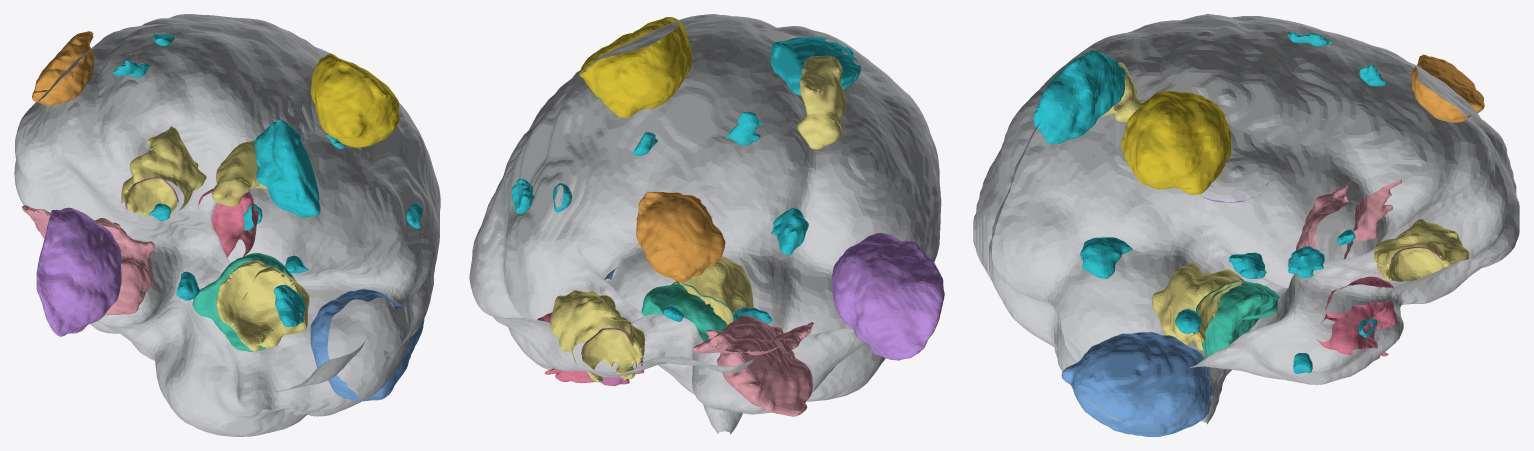
The model's file is case_library_meningioma.glb.
The picture shows the model from 3 angles, left to right: view 1: azimuth 30°, elevation 25°; view 2: azimuth 150°, elevation 25°; view 3: azimuth 270°, elevation 25°; orthographic projection. The views are drawn at different scales.
Visible parts, largest first — view 1: Reference brain surface, Left temporal convexity meningioma — enhancing dural tumour , Posterior falcine meningioma — enhancing dural tumour (7.5 m, Right parasagittal / peri-rolandic meningioma — enhancing du, Petroclival / dorsum sellae skull-base meningioma — vasogeni, Olfactory groove meningioma — vasogenic brain oedema (4.9 mL, Left lateral sphenoid wing meningioma — enhancing dural tumo, Right cerebellopontine angle / petrous meningioma — enhancin, Left frontal convexity meningioma — enhancing dural tumour (, Posterior falcine meningioma — vasogenic brain oedema (2.6 m, Right medial sphenoid wing / clinoidal meningioma — enhancin, Petroclival / dorsum sellae skull-base meningioma — enhancin; view 2: Reference brain surface, Left temporal convexity meningioma — enhancing dural tumour , Left lateral sphenoid wing meningioma — enhancing dural tumo, Right parasagittal / peri-rolandic meningioma — enhancing du, Posterior falcine meningioma — enhancing dural tumour (7.5 m, Left frontal convexity meningioma — enhancing dural tumour (, Olfactory groove meningioma — vasogenic brain oedema (4.9 mL, Posterior falcine meningioma — vasogenic brain oedema (2.6 m, Petroclival / dorsum sellae skull-base meningioma — vasogeni, Petroclival / dorsum sellae skull-base meningioma — enhancin, Right medial sphenoid wing / clinoidal meningioma — enhancin; view 3: Reference brain surface, Right cerebellopontine angle / petrous meningioma — enhancin, Posterior falcine meningioma — enhancing dural tumour (7.5 m, Right parasagittal / peri-rolandic meningioma — enhancing du, Olfactory groove meningioma — vasogenic brain oedema (4.9 mL, Petroclival / dorsum sellae skull-base meningioma — vasogeni, Petroclival / dorsum sellae skull-base meningioma — enhancin, Right medial sphenoid wing / clinoidal meningioma — enhancin, Left lateral sphenoid wing meningioma — enhancing dural tumo, Left frontal convexity meningioma — enhancing dural tumour (, Posterior falcine meningioma — vasogenic brain oedema (2.6 m.
Boxes of the visible parts, x1=… form: Reference brain surface: x1=14, y1=14, x2=440, y2=436; Left temporal convexity meningioma — enhancing dural tumour : x1=36, y1=207, x2=185, y2=336; Posterior falcine meningioma — enhancing dural tumour (7.5 m: x1=113, y1=34, x2=423, y2=326; Right parasagittal / peri-rolandic meningioma — enhancing du: x1=310, y1=53, x2=399, y2=147; Petroclival / dorsum sellae skull-base meningioma — vasogeni: x1=216, y1=260, x2=309, y2=351; Olfactory groove meningioma — vasogenic brain oedema (4.9 mL: x1=121, y1=126, x2=206, y2=216; Left lateral sphenoid wing meningioma — enhancing dural tumo: x1=22, y1=205, x2=154, y2=315; Right cerebellopontine angle / petrous meningioma — enhancin: x1=310, y1=289, x2=424, y2=401; Left frontal convexity meningioma — enhancing dural tumour (: x1=32, y1=31, x2=93, y2=105; Posterior falcine meningioma — vasogenic brain oedema (2.6 m: x1=212, y1=140, x2=281, y2=206; Right medial sphenoid wing / clinoidal meningioma — enhancin: x1=198, y1=188, x2=259, y2=257; Petroclival / dorsum sellae skull-base meningioma — enhancin: x1=192, y1=253, x2=295, y2=351; Reference brain surface: x1=469, y1=14, x2=941, y2=434; Left temporal convexity meningioma — enhancing dural tumour : x1=831, y1=209, x2=944, y2=360; Left lateral sphenoid wing meningioma — enhancing dural tumo: x1=693, y1=315, x2=814, y2=416; Right parasagittal / peri-rolandic meningioma — enhancing du: x1=579, y1=17, x2=692, y2=117; Posterior falcine meningioma — enhancing dural tumour (7.5 m: x1=511, y1=36, x2=861, y2=323; Left frontal convexity meningioma — enhancing dural tumour (: x1=636, y1=192, x2=725, y2=281; Olfactory groove meningioma — vasogenic brain oedema (4.9 mL: x1=550, y1=290, x2=644, y2=382; Posterior falcine meningioma — vasogenic brain oedema (2.6 m: x1=797, y1=55, x2=845, y2=149; Petroclival / dorsum sellae skull-base meningioma — vasogeni: x1=671, y1=256, x2=753, y2=325; Petroclival / dorsum sellae skull-base meningioma — enhancin: x1=641, y1=283, x2=733, y2=341; Right medial sphenoid wing / clinoidal meningioma — enhancin: x1=537, y1=312, x2=595, y2=383; Reference brain surface: x1=973, y1=14, x2=1519, y2=427; Right cerebellopontine angle / petrous meningioma — enhancin: x1=1061, y1=332, x2=1212, y2=436; Posterior falcine meningioma — enhancing dural tumour (7.5 m: x1=1034, y1=31, x2=1386, y2=373; Right parasagittal / peri-rolandic meningioma — enhancing du: x1=1121, y1=91, x2=1231, y2=194; Olfactory groove meningioma — vasogenic brain oedema (4.9 mL: x1=1374, y1=219, x2=1468, y2=281; Petroclival / dorsum sellae skull-base meningioma — vasogeni: x1=1152, y1=263, x2=1244, y2=350; Petroclival / dorsum sellae skull-base meningioma — enhancin: x1=1196, y1=280, x2=1279, y2=357; Right medial sphenoid wing / clinoidal meningioma — enhancin: x1=1316, y1=276, x2=1396, y2=360; Left lateral sphenoid wing meningioma — enhancing dural tumo: x1=1296, y1=179, x2=1401, y2=259; Left frontal convexity meningioma — enhancing dural tumour (: x1=1411, y1=54, x2=1484, y2=122; Posterior falcine meningioma — vasogenic brain oedema (2.6 m: x1=1091, y1=62, x2=1143, y2=122.
Bounding box in the file's own units: 137 × 136 × 175.
